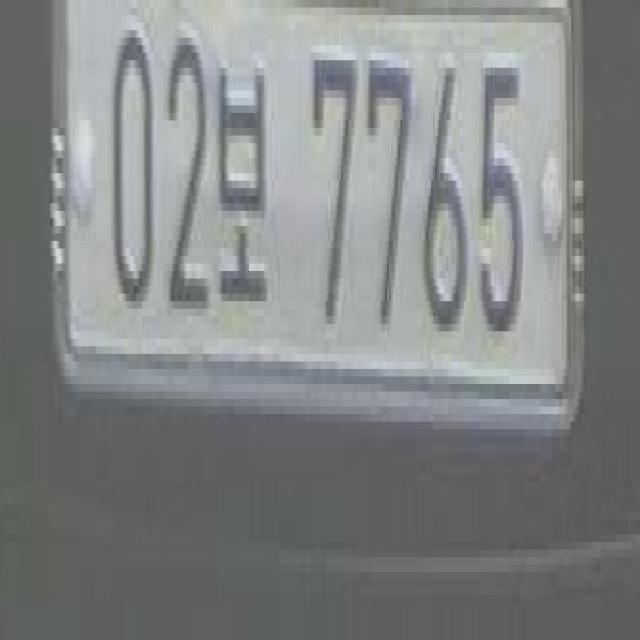0: (114, 29, 156, 312)
2: (165, 40, 212, 325)
5: (478, 46, 538, 350)
6: (421, 48, 472, 363)
7: (308, 43, 357, 368), (365, 46, 409, 328)
bo: (216, 42, 272, 358)
license_plate: (51, 16, 582, 427)
